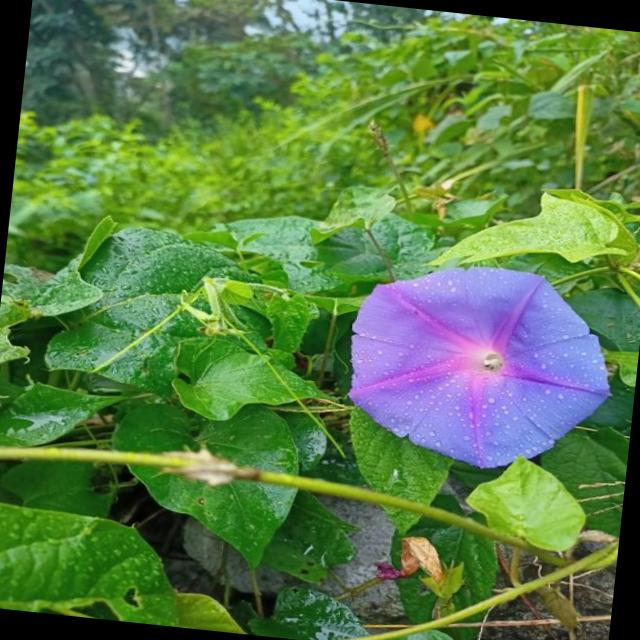ipomoea: (334, 250, 626, 483)
